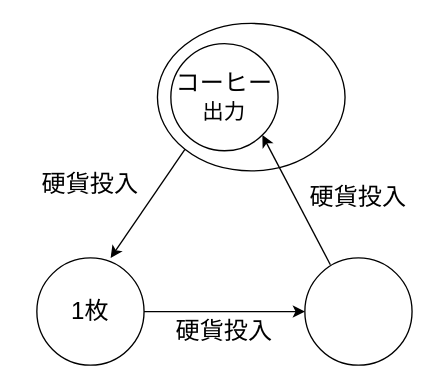
Some shapes in this 448 by 389 pixel diagram are drawn without their labels. The box of each missing label's shape, as (x1, y1, x2, y2) in pixels:
0枚: (156, 22, 345, 171)
2枚: (304, 257, 412, 365)
